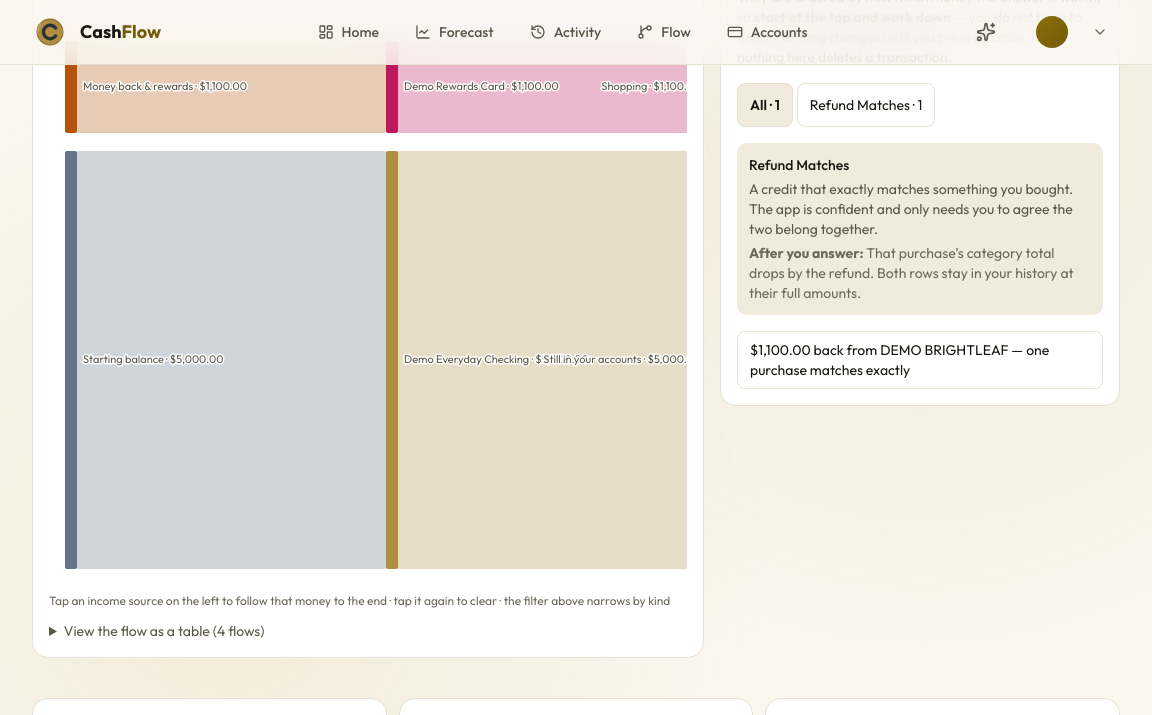
FIN-RECOVERY-UI-001 · Flow, badges and analytics (A1-A6) › A3 — the drill-down table gains a "Refund of …" line for a linked pair
(page scrolled)
Click the button "back from DEMO BRIGHTLEAF". click: (920, 360)
box: [737, 331, 1103, 389]
(page scrolled)
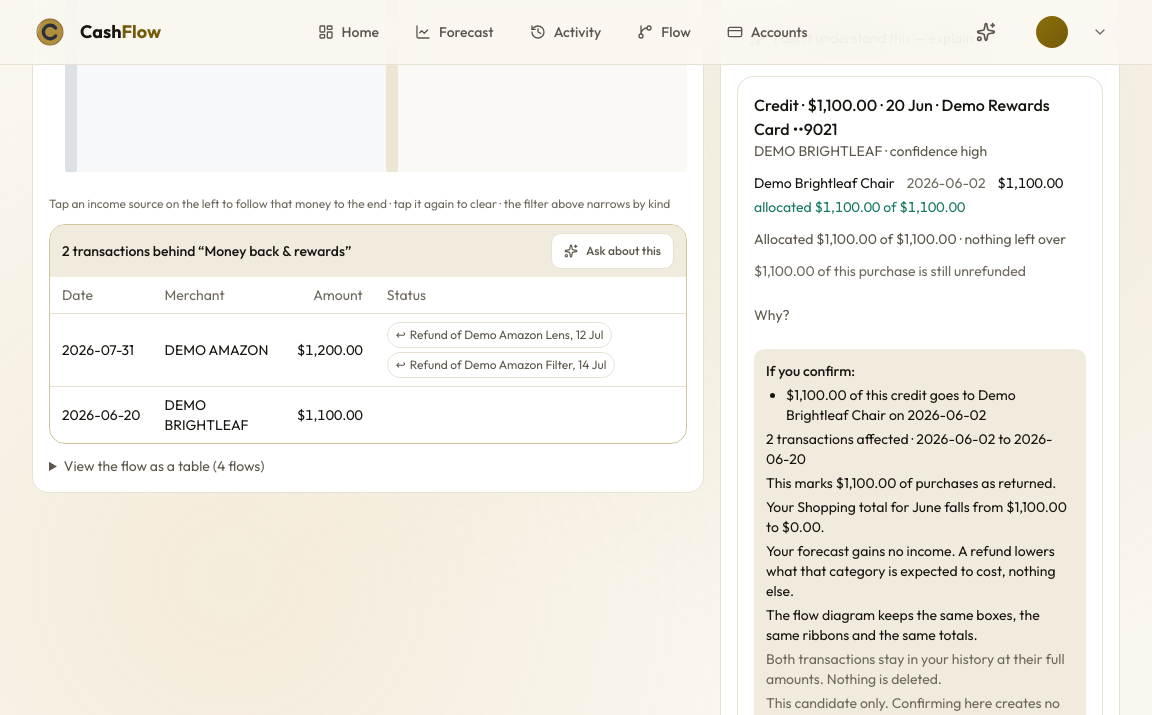
Expected: the table "Date" shows "$1,200.00", [297, 341, 363, 359]
Expected: the text "Refund of Demo Amazon Lens, 12 Jul" is shown, [410, 327, 603, 342]
Expected: the text "Refund of Demo Amazon Filter, 14 Jul" is shown, [410, 357, 606, 372]
